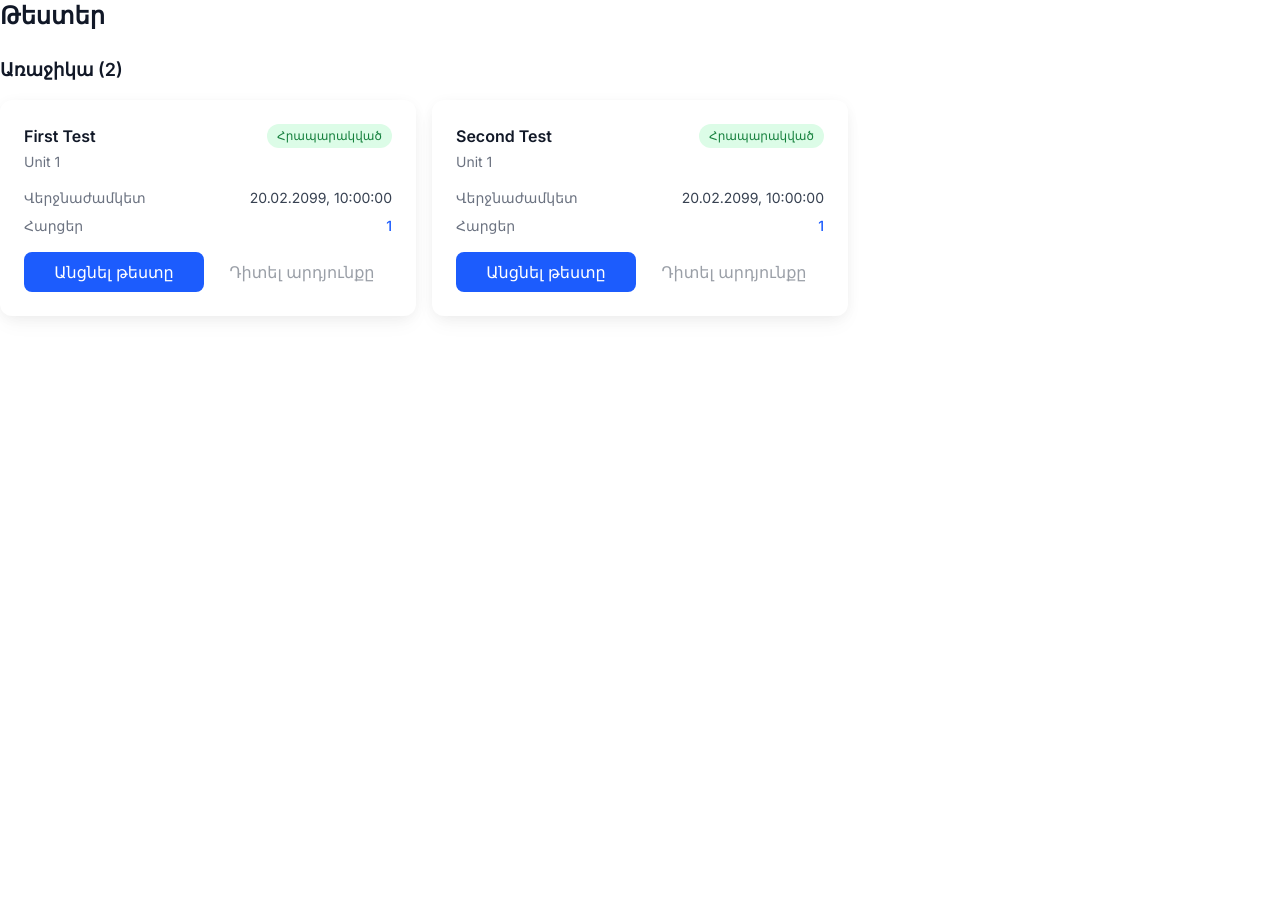
it: TestsPage › student does not see stale questions when opening a different test
What coordinates should you click on to do the following:
click the button "Անցնել թեստը" below "Second Test"
I would click on:
 (546, 272)
Its box is [456,252,636,292].
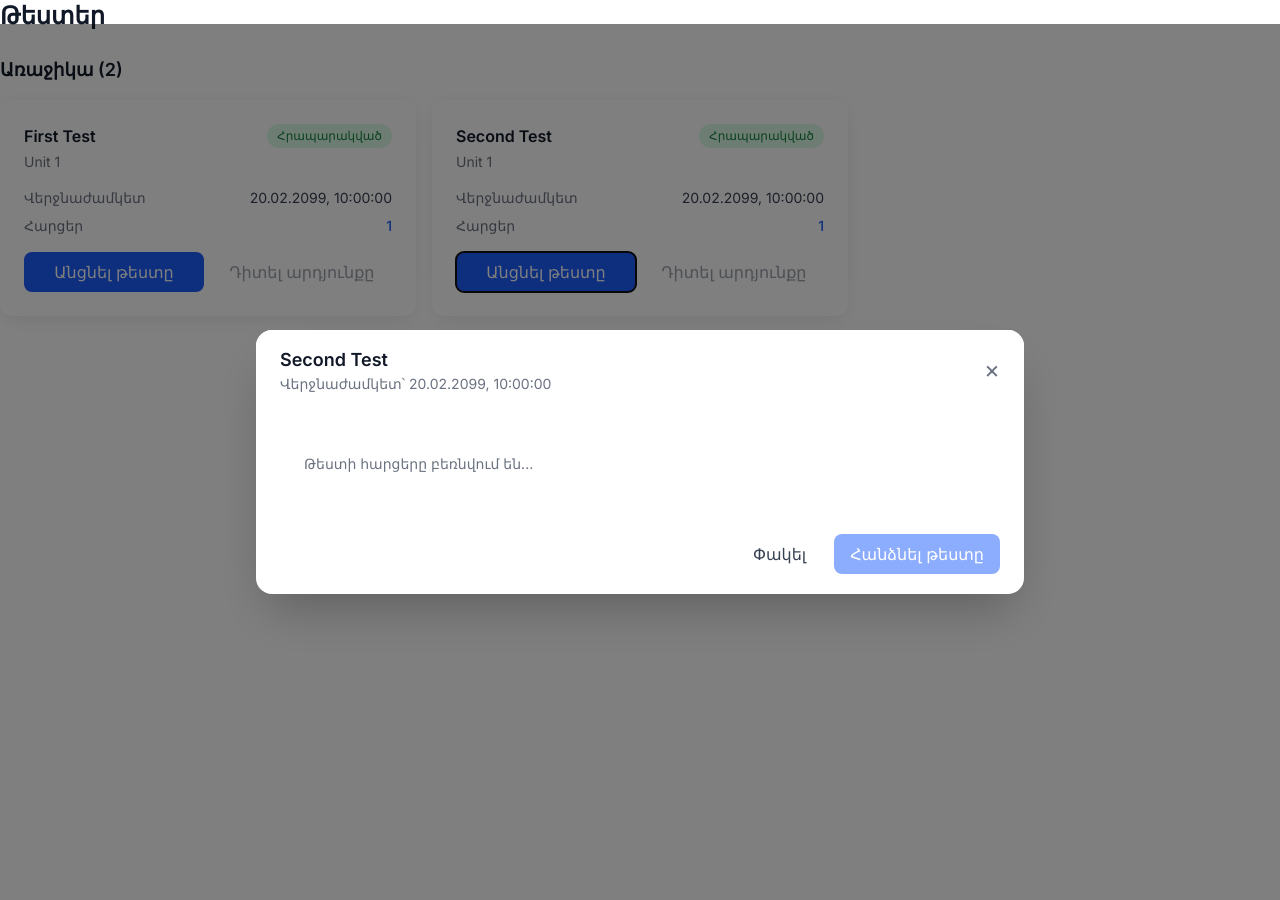
expect the heading "Second Test" in the row of "First Test" is shown: met, box [456,126,552,146]
expect the text "Թեստի հարցերը բեռնվում են..." is shown: met, box [304,455,533,472]
